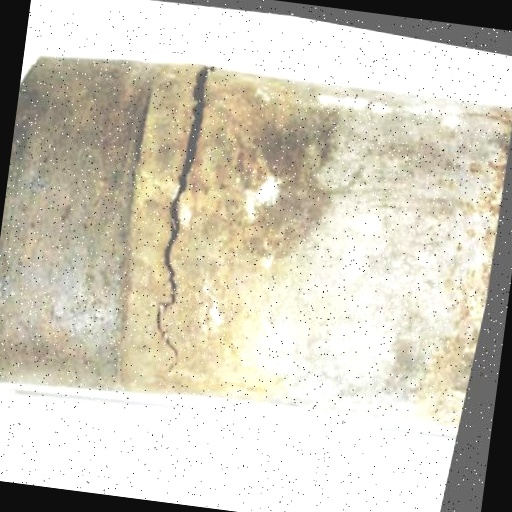crack: (101, 51, 250, 384)
